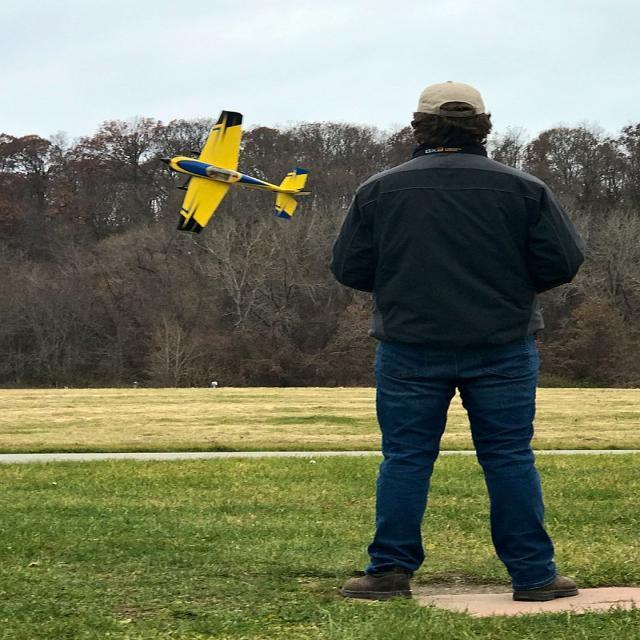iha: (147, 100, 323, 245)
